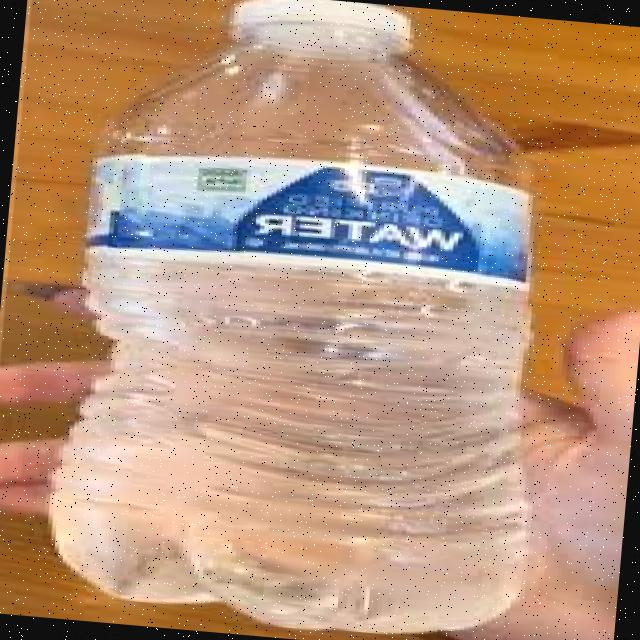bottle: (11, 0, 588, 640)
cap: (222, 0, 429, 57)
label: (68, 134, 570, 308)
